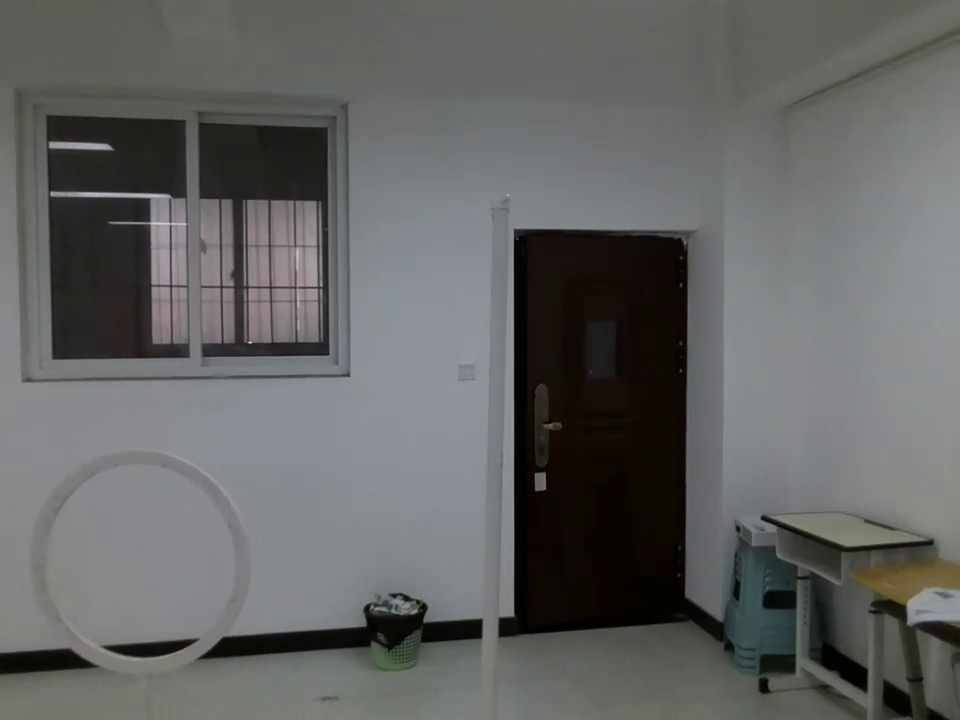gan: (482, 188, 510, 720)
quan: (27, 447, 257, 694)
